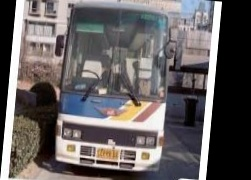bus: (45, 0, 179, 179)
